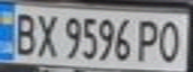5: (78, 14, 100, 61)
6: (112, 16, 136, 62)
9: (60, 12, 84, 60), (97, 15, 118, 62)
B: (9, 8, 39, 56)
O: (154, 17, 187, 64)
P: (136, 16, 163, 63)
X: (33, 10, 60, 58)
